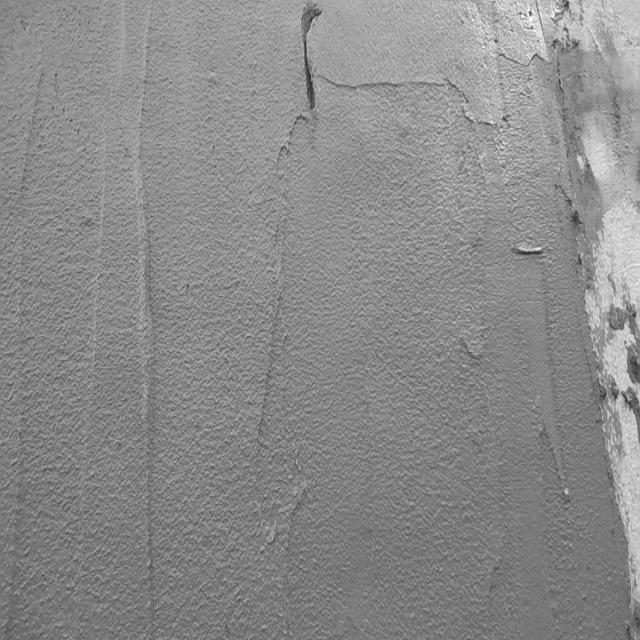trowels marks: (72, 138, 107, 587), (135, 18, 160, 612), (16, 65, 41, 594)
